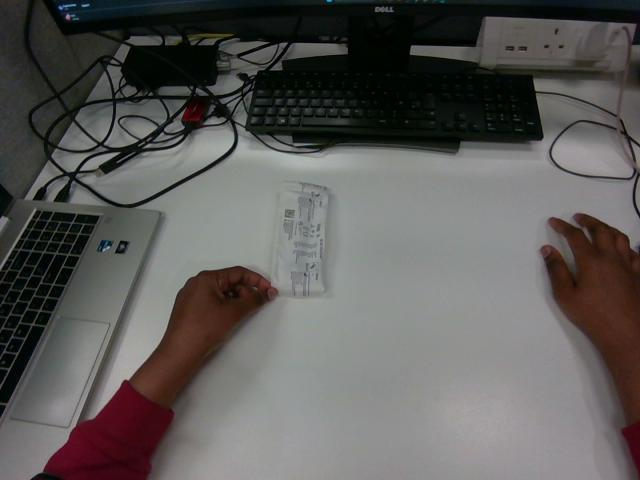syringe: (272, 181, 328, 297)
